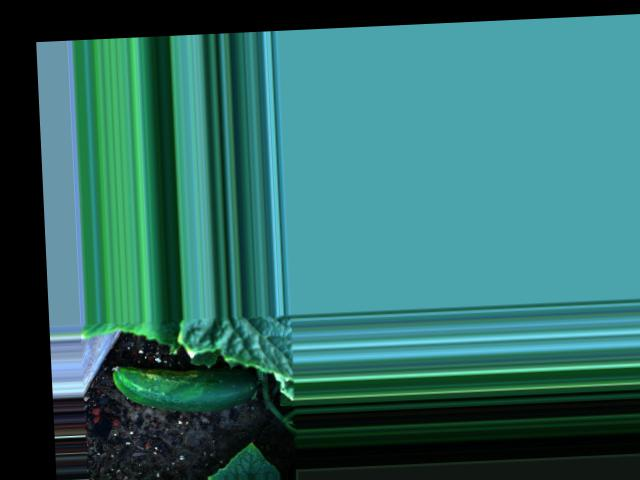cucumber: (111, 359, 257, 415)
